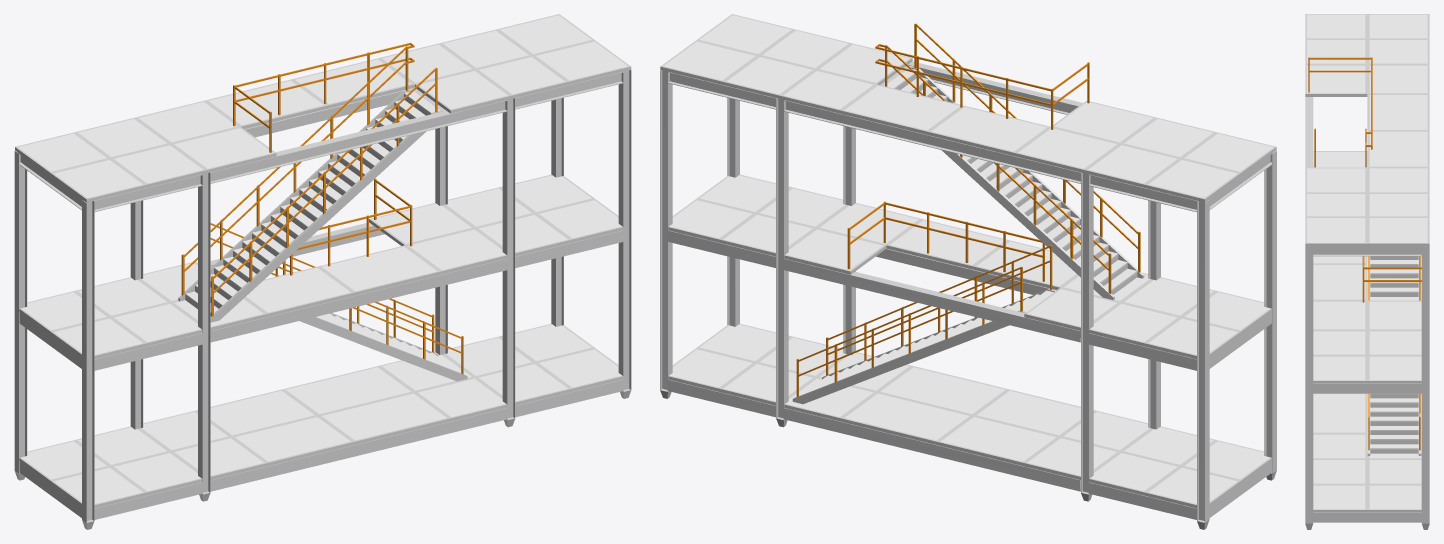
The model's file is SM_H_Building_Tide_DeepJail_04_Shelf_03a_ATLAS.fbx.
3 renders of one model, left to right at view 1: azimuth 30°, elevation 25°; view 2: azimuth 150°, elevation 25°; view 3: azimuth 270°, elevation 25°, orthographic. The views are drawn at different scales.
Parts seen in each view (by area): view 1: SM_H_Building_Tide_DeepJail_04_Shelf_03a_ATLAS; view 2: SM_H_Building_Tide_DeepJail_04_Shelf_03a_ATLAS; view 3: SM_H_Building_Tide_DeepJail_04_Shelf_03a_ATLAS.
Boxes of the visible parts, x1,y1,x2,y2 form: SM_H_Building_Tide_DeepJail_04_Shelf_03a_ATLAS: (14,14,631,529); SM_H_Building_Tide_DeepJail_04_Shelf_03a_ATLAS: (660,14,1276,529); SM_H_Building_Tide_DeepJail_04_Shelf_03a_ATLAS: (1305,14,1429,529).
Size of the model in its own units: 1354 by 310 by 883.
